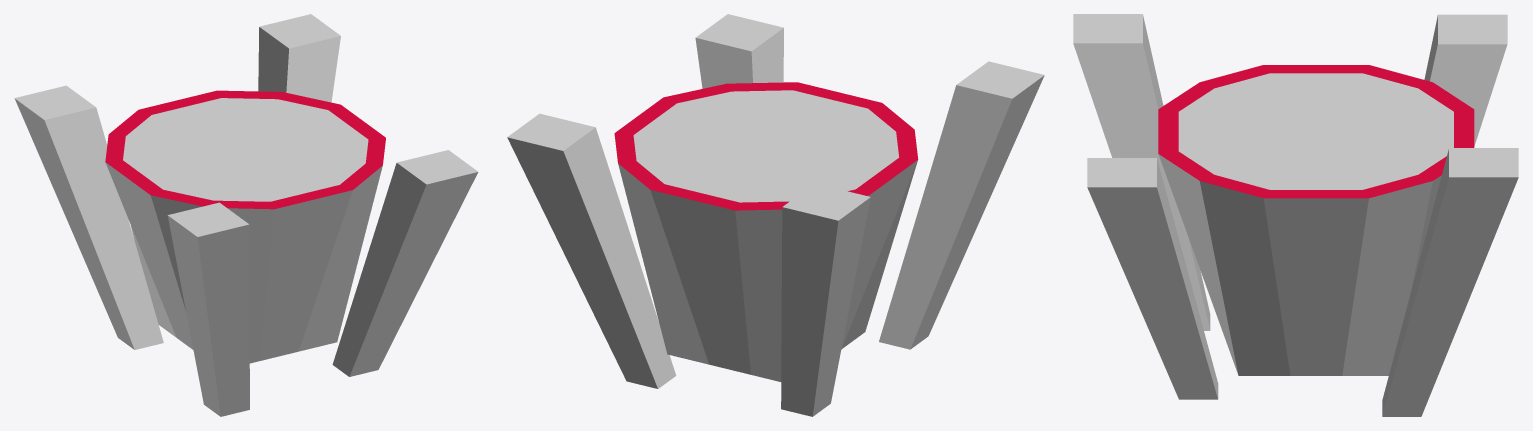
File: battlegroundV1.fbx
The picture shows the model from 3 angles, left to right: view 1: azimuth 30°, elevation 25°; view 2: azimuth 150°, elevation 25°; view 3: azimuth 270°, elevation 25°; orthographic projection. The views are drawn at different scales.
Parts seen in each view (by area): view 1: Cube.004; view 2: Cube.004; view 3: Cube.004.
Part boxes in pixels (bbox=[...]): Cube.004: bbox=[14, 14, 478, 416]; Cube.004: bbox=[507, 14, 1044, 416]; Cube.004: bbox=[1073, 14, 1518, 416].
Bounding box in the file's own units: 1006 × 755 × 1095.
